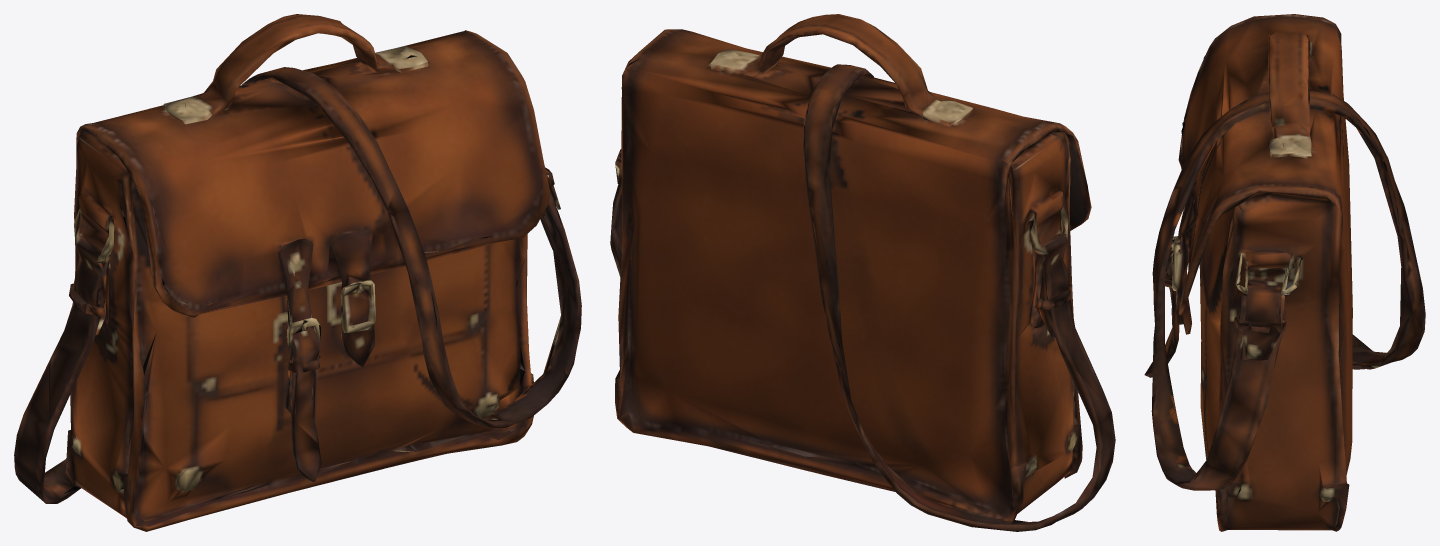
The model's file is satchel.glb.
3 views of the same model, side by side, from view 1: azimuth 30°, elevation 25°; view 2: azimuth 150°, elevation 25°; view 3: azimuth 270°, elevation 25° (orthographic). The views are drawn at different scales.
Visible parts, largest first — view 1: Mesh_0.001; view 2: Mesh_0.001; view 3: Mesh_0.001.
Part boxes in pixels (x1,y1,x2,y2): Mesh_0.001: (14, 14, 581, 531); Mesh_0.001: (610, 14, 1115, 531); Mesh_0.001: (1144, 14, 1425, 531).
Bounding box in the file's own units: 1.89 × 1.53 × 0.9527.
Materials: 1 (1 with a texture image).
